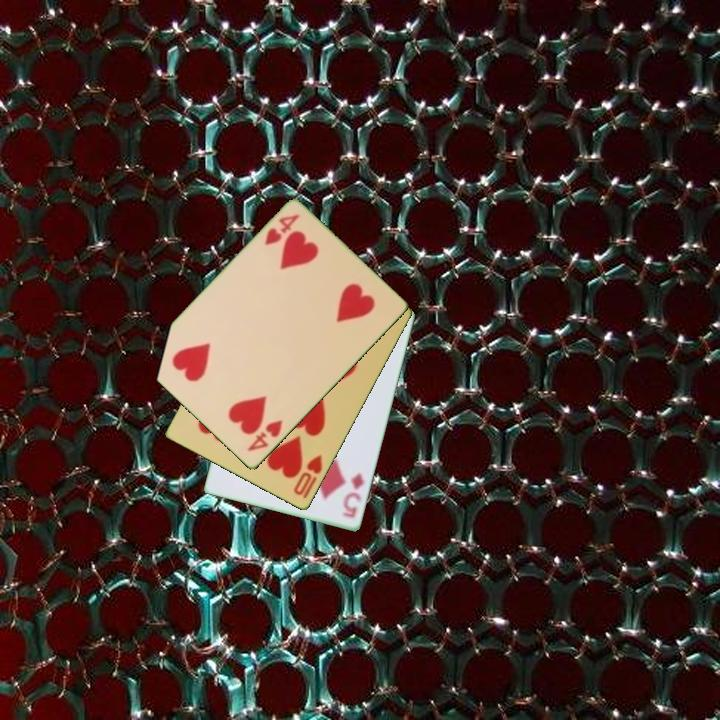10h: (290, 451, 326, 502)
4h: (244, 417, 286, 455), (261, 211, 302, 249)
5d: (339, 470, 367, 521)
